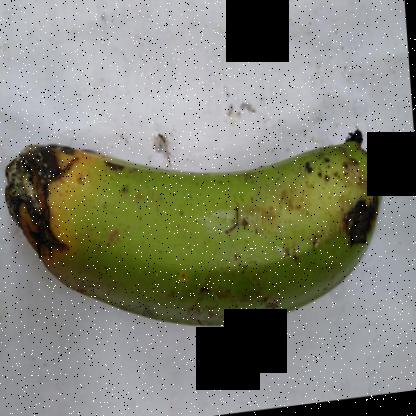rotten: (1, 90, 118, 272)
unripe: (89, 110, 397, 357)
